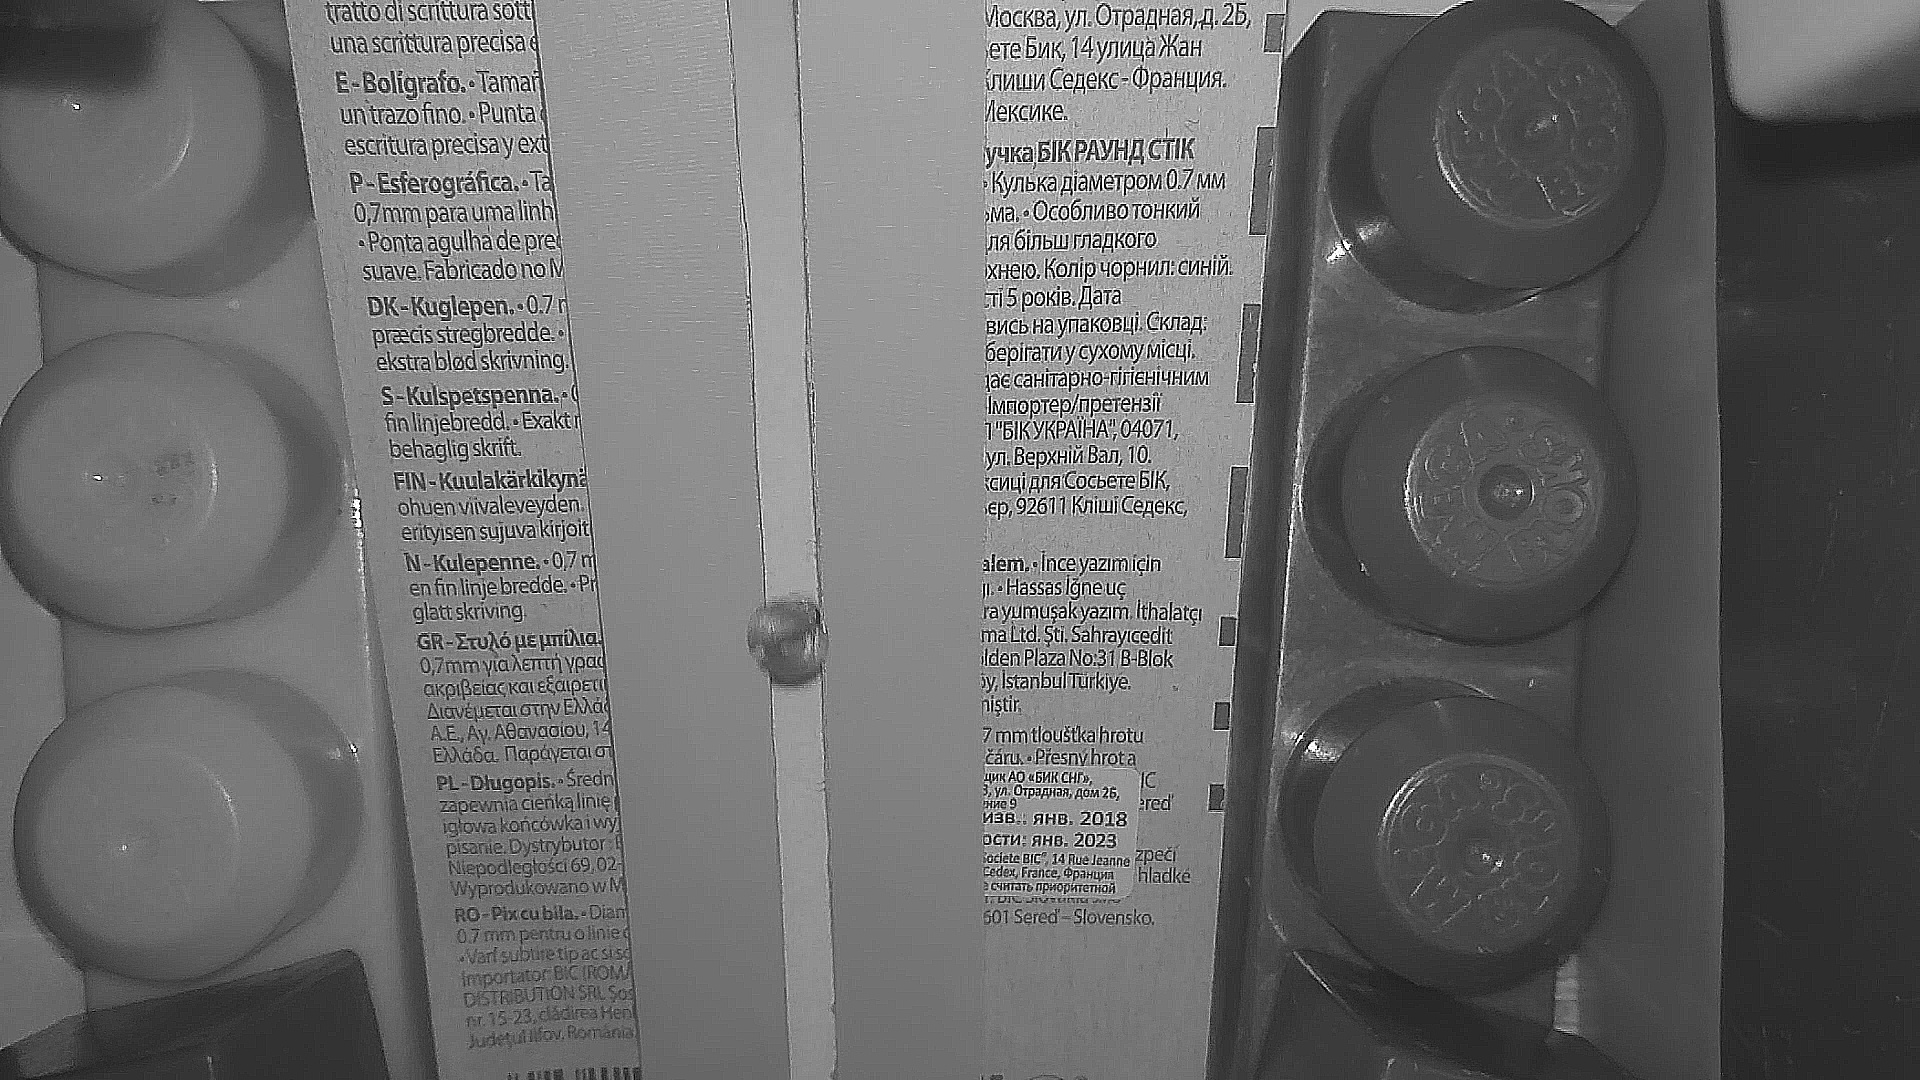i: (749, 597, 829, 684)
